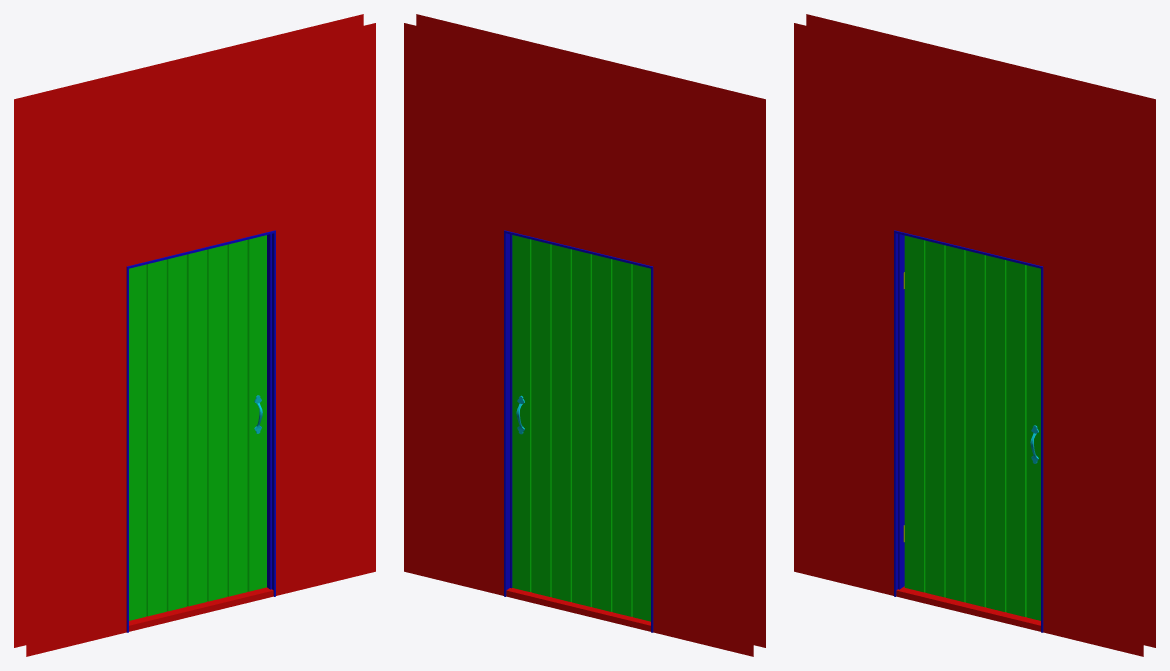
File: inside_dirtydoor.FBX
3 renders of one model, left to right at view 1: azimuth 30°, elevation 25°; view 2: azimuth 150°, elevation 25°; view 3: azimuth 330°, elevation 25°, orthographic.
Visible parts, largest first — view 1: door_frame, door; view 2: door_frame, door; view 3: door_frame, door.
Part boxes in pixels (x1,y1,x2,y2): door_frame: (14, 14, 375, 656); door: (129, 235, 266, 620); door_frame: (404, 14, 765, 656); door: (512, 235, 650, 621); door_frame: (794, 14, 1155, 656); door: (904, 235, 1040, 620).
Bounding box in the file's own units: 2 × 0.132 × 3.
